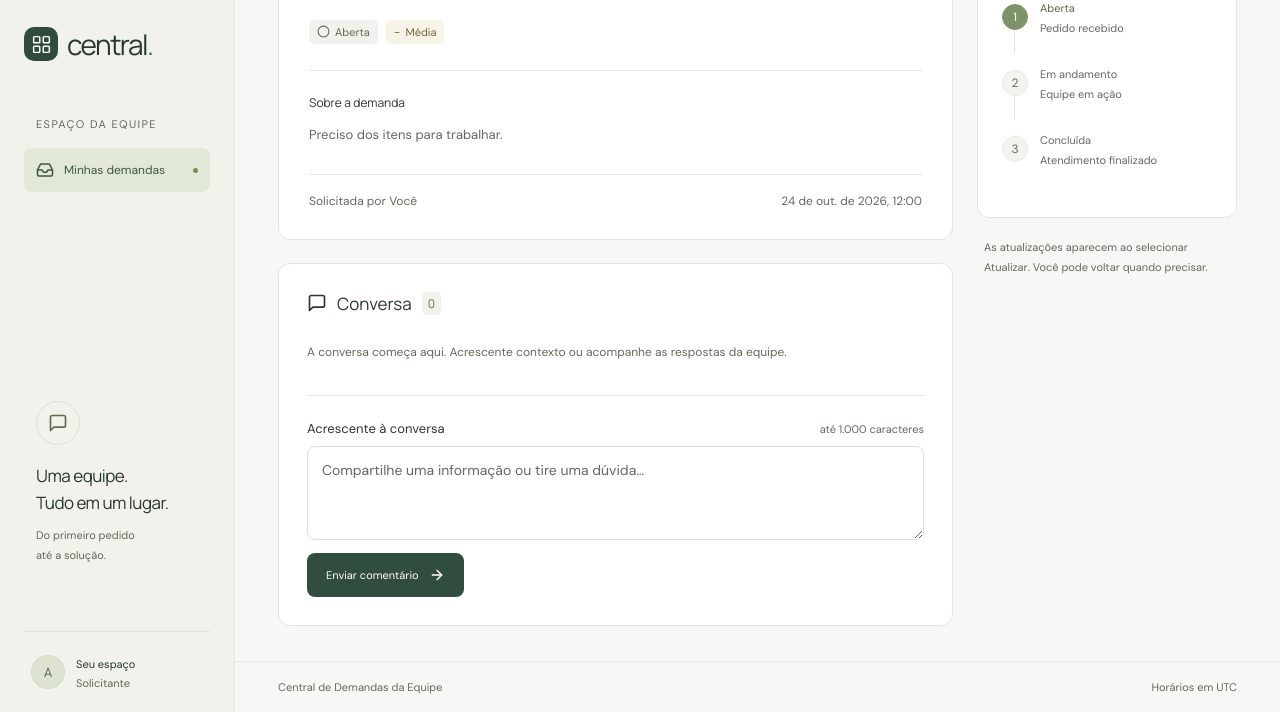
participant flow › preserves a late comment and disables sending after completion
This screenshot has width=1280, height=712.
(page scrolled)
Type "Texto ainda não enviado" into the text box labelled "Acrescente à conversa até 1.000 caracteres" at (616, 493), box [307,446,924,540]
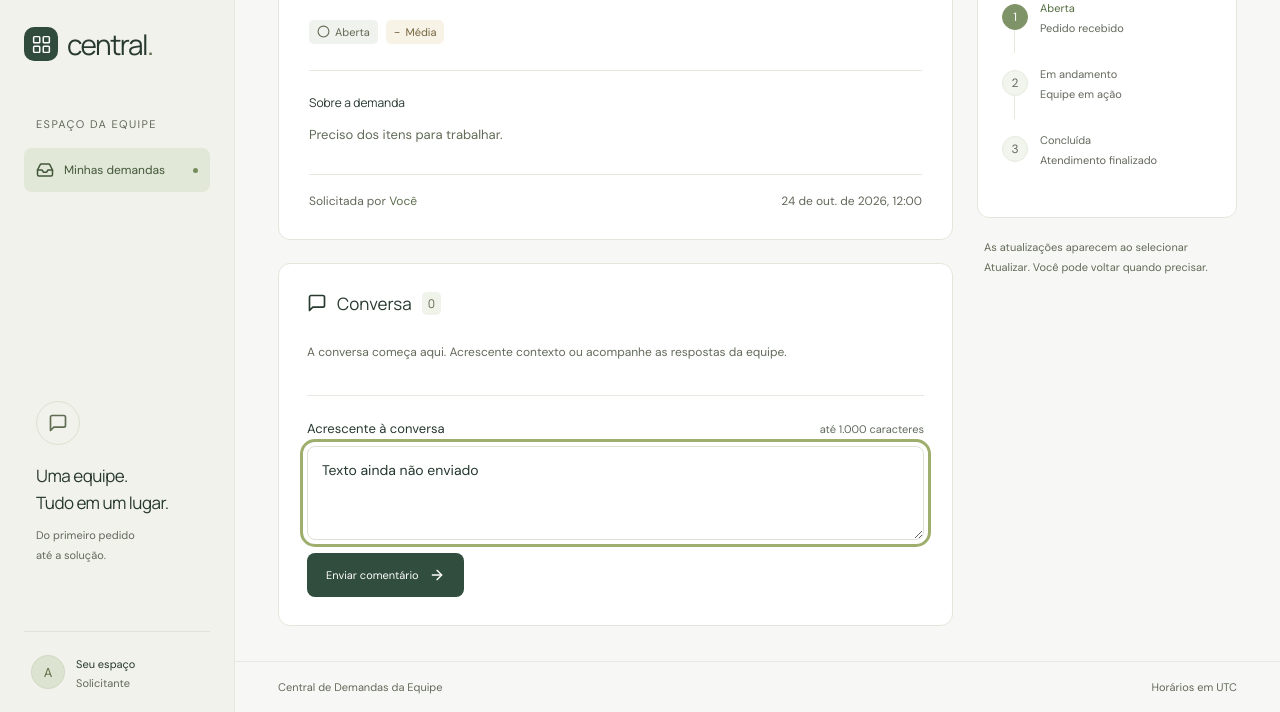
Click the button "Enviar comentário" at (385, 575), box [307,553,464,597]
(page scrolled)
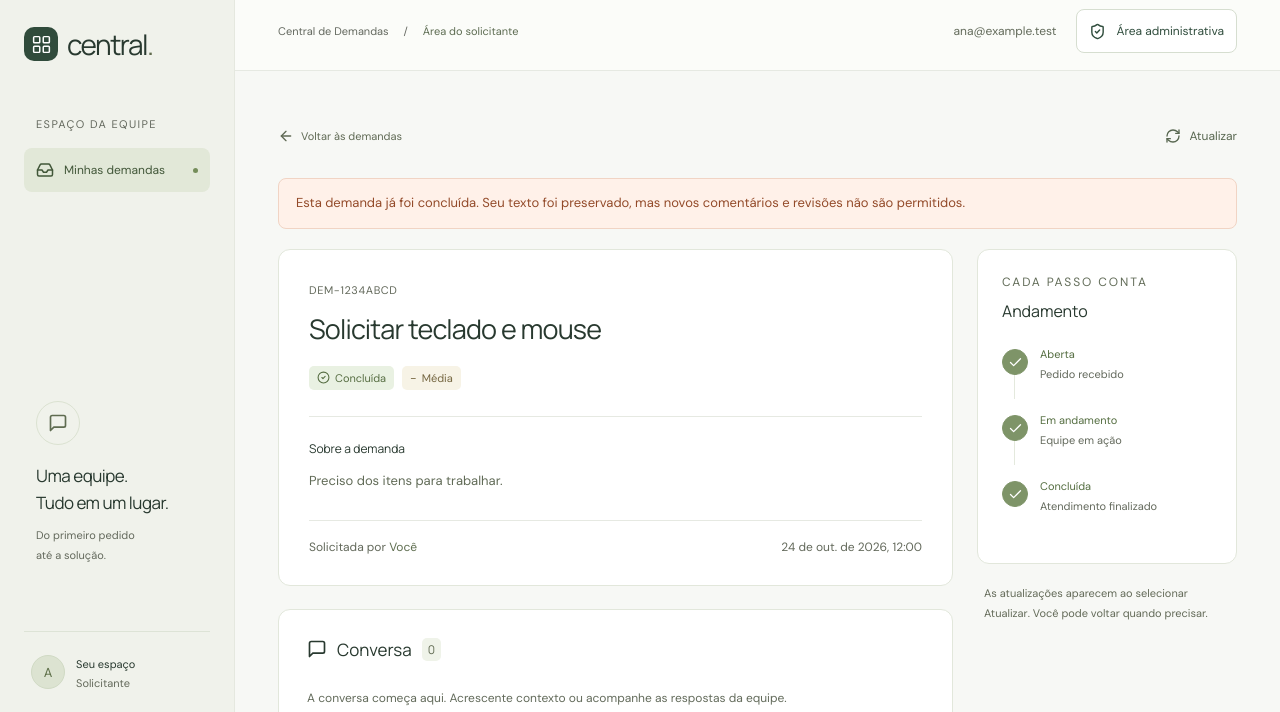
Now the button "Enviar comentário" is gone
Now the message shows "já foi concluída", box [296,194,965,211]
